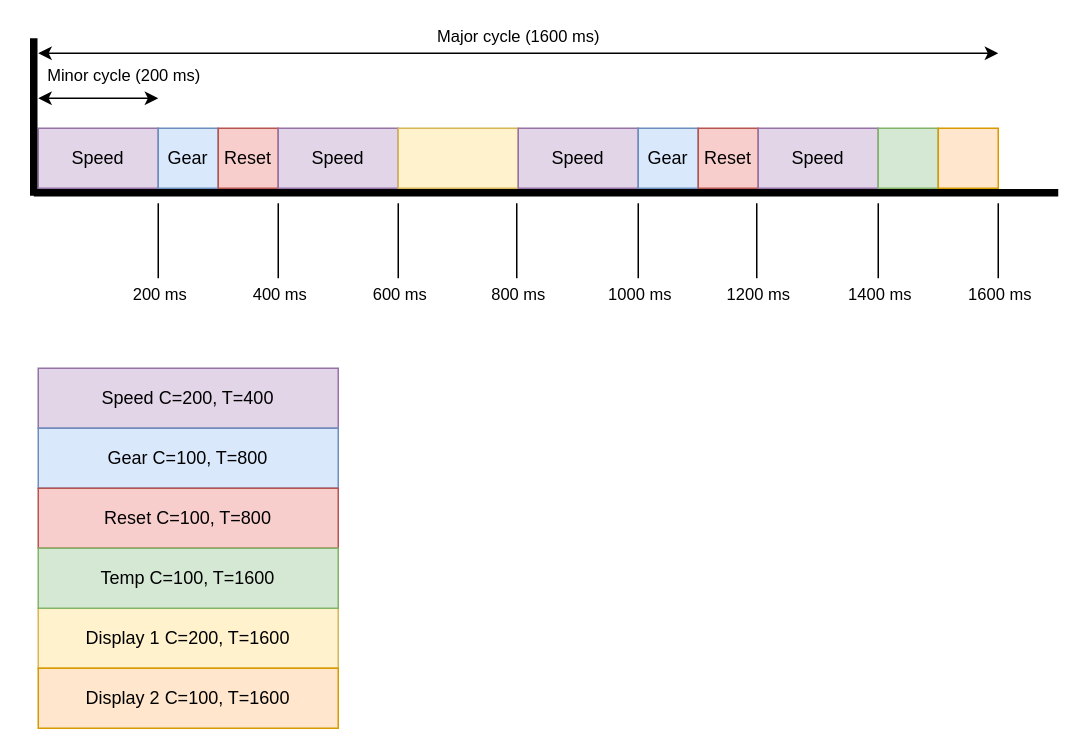
Image size: 1089x755. Some labels were removed from this diagram. The centre of each missing label's shape, as x and y in pixels:
Display 1: pixel 457 157
Display 2: pixel 967 157
Temp: pixel 907 157
